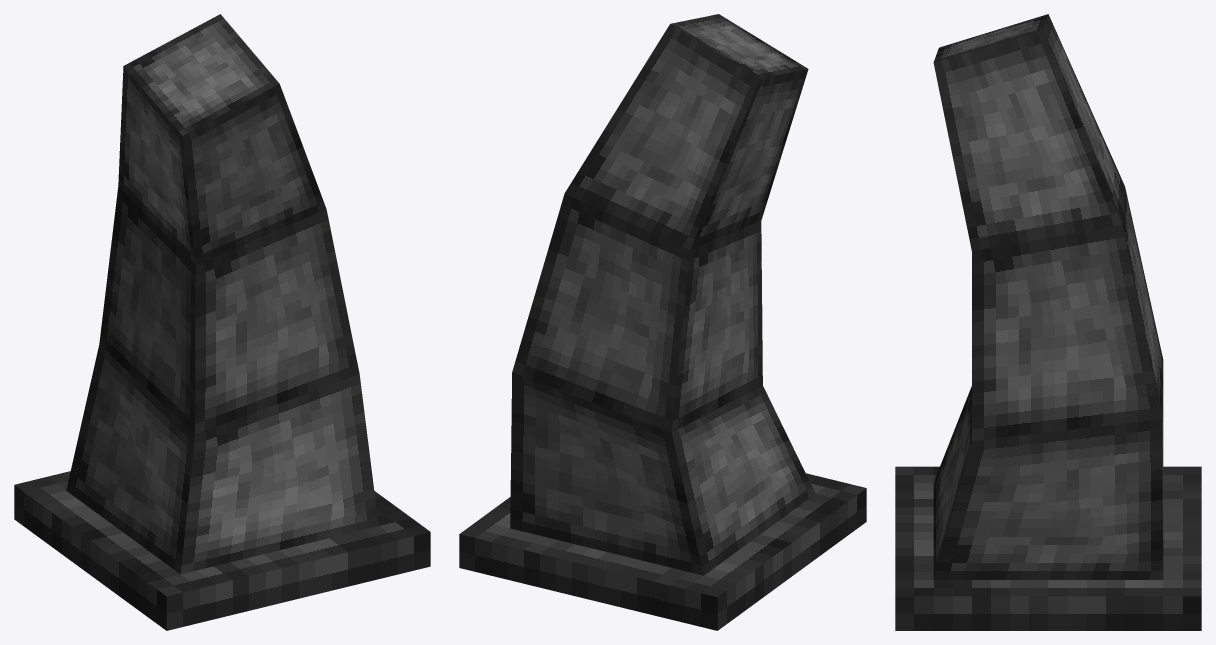
File: arcane_pillar_diag.obj
3 views of the same model, side by side, from view 1: azimuth 30°, elevation 25°; view 2: azimuth 150°, elevation 25°; view 3: azimuth 270°, elevation 25° (orthographic). The views are drawn at different scales.
Parts seen in each view (by area): view 1: prong, base; view 2: prong, base; view 3: prong, base.
Part boxes in pixels (left/top/right/bottom): prong: left=66, top=14, right=378, bottom=574; base: left=14, top=471, right=430, bottom=630; prong: left=510, top=14, right=815, bottom=575; base: left=459, top=473, right=866, bottom=630; prong: left=933, top=14, right=1163, bottom=579; base: left=895, top=466, right=1201, bottom=630.
Bounding box in the file's own units: 1 × 1.92 × 1.
